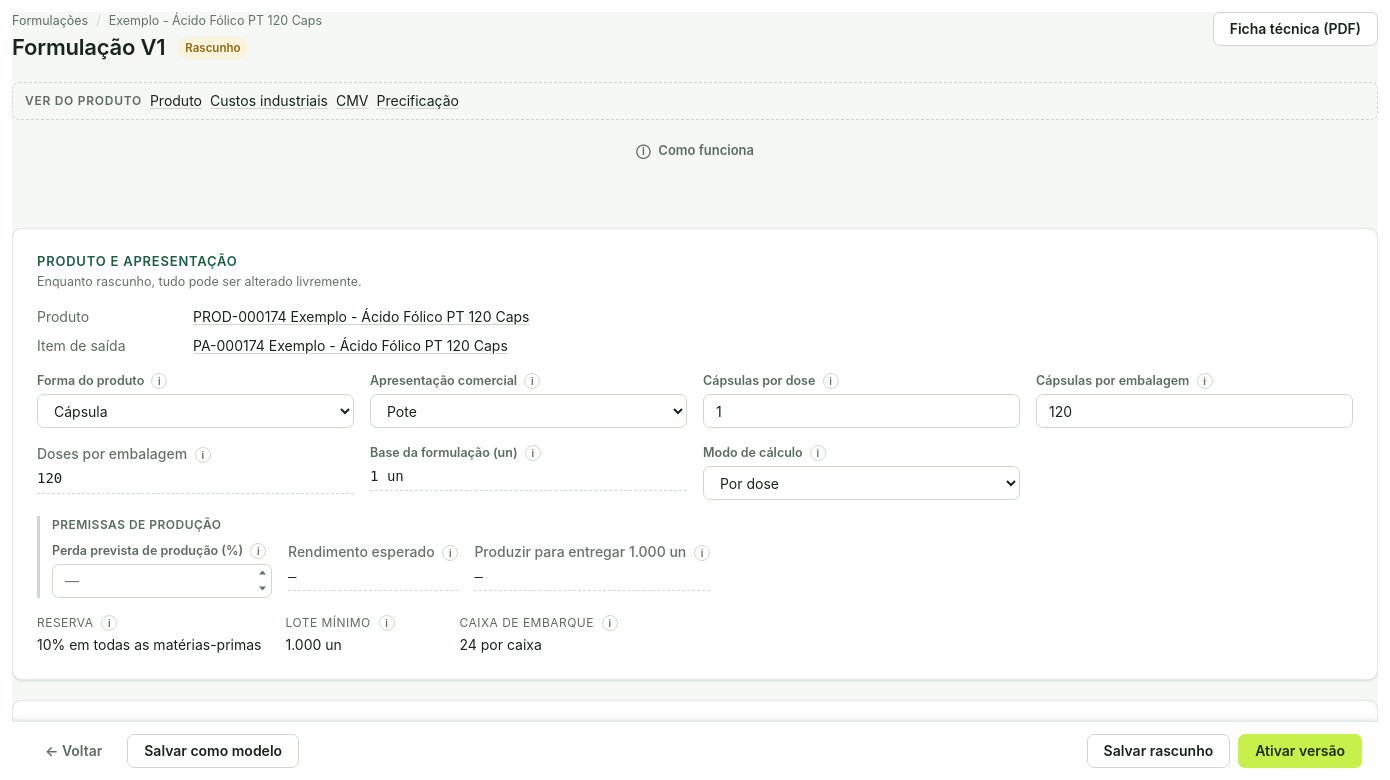
it: Premissas de produção — perda e rendimento › o rendimento é 100% menos a perda e acompanha a digitação, sem salvar
Expected: the link "PROD-000174 Exemplo - Ácido Fólico PT 120 Caps" is shown, [193, 308, 530, 325]
Expected: the text with test id "rendimento-esperado" reads "—", [288, 568, 296, 584]
Type "1" into the field labelled "Perda prevista de produção (%) i" at (162, 581), box [52, 564, 272, 598]
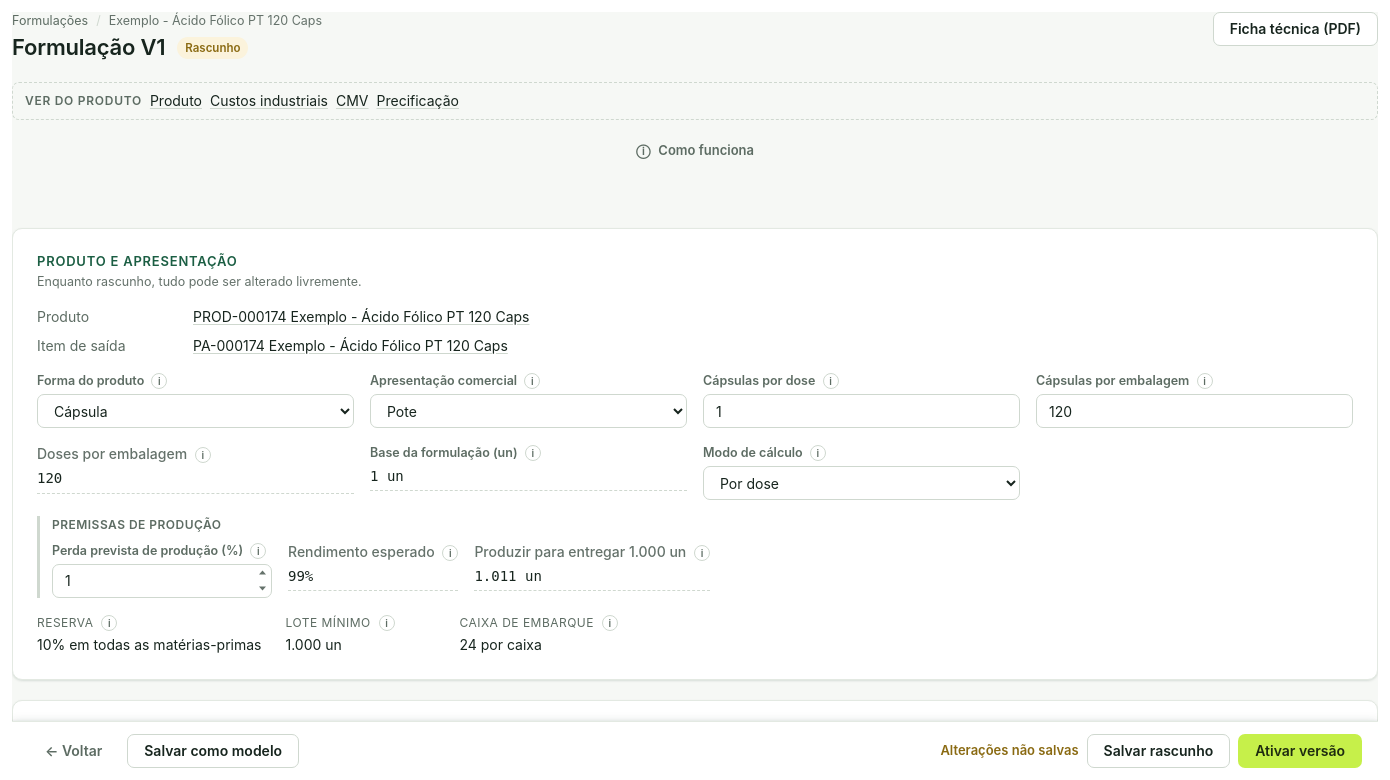
Expected: the text with test id "rendimento-esperado" reads "99%", [288, 568, 313, 584]
Replace the text in the field labelled "Perda prevista de produção (%) i" with "2,5" at (162, 581), box [52, 564, 272, 598]
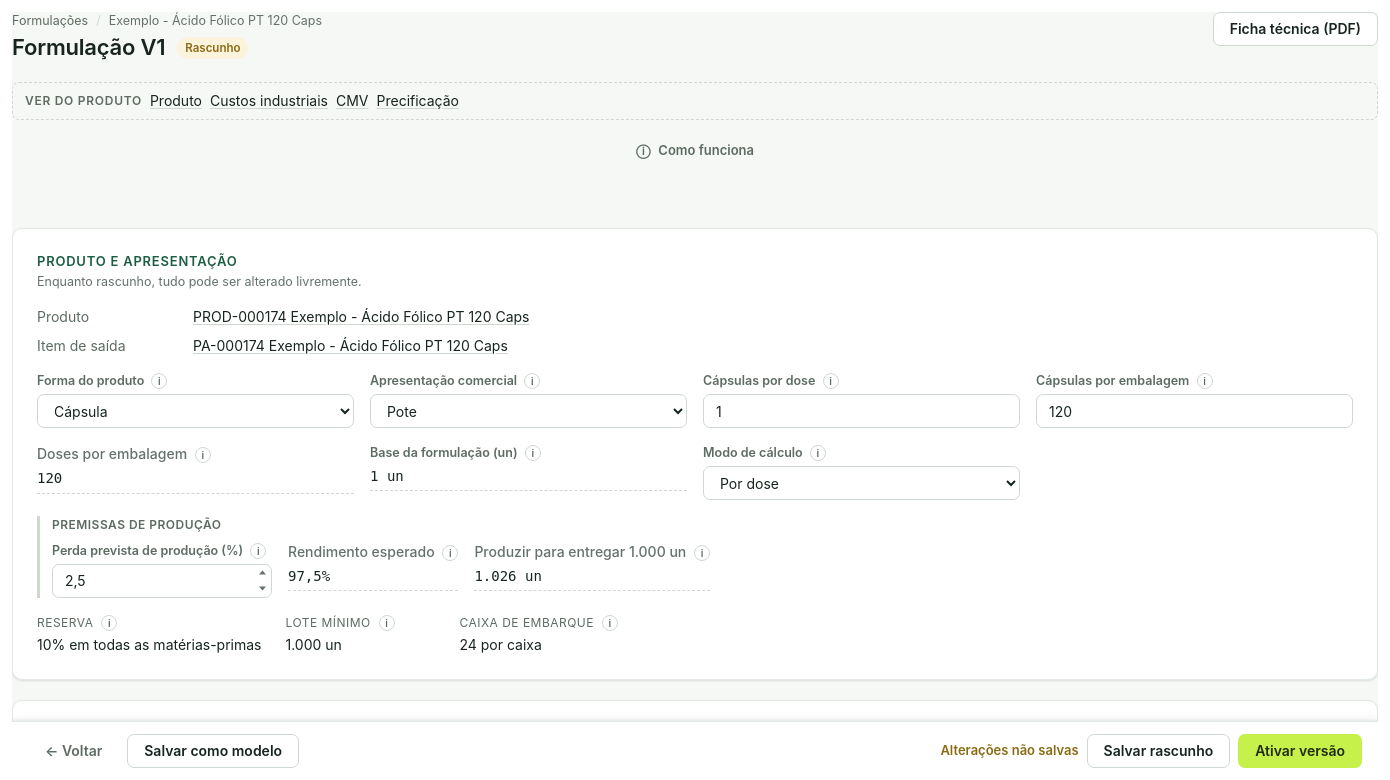
Expected: the text with test id "rendimento-esperado" reads "97,5%", [288, 568, 330, 584]
